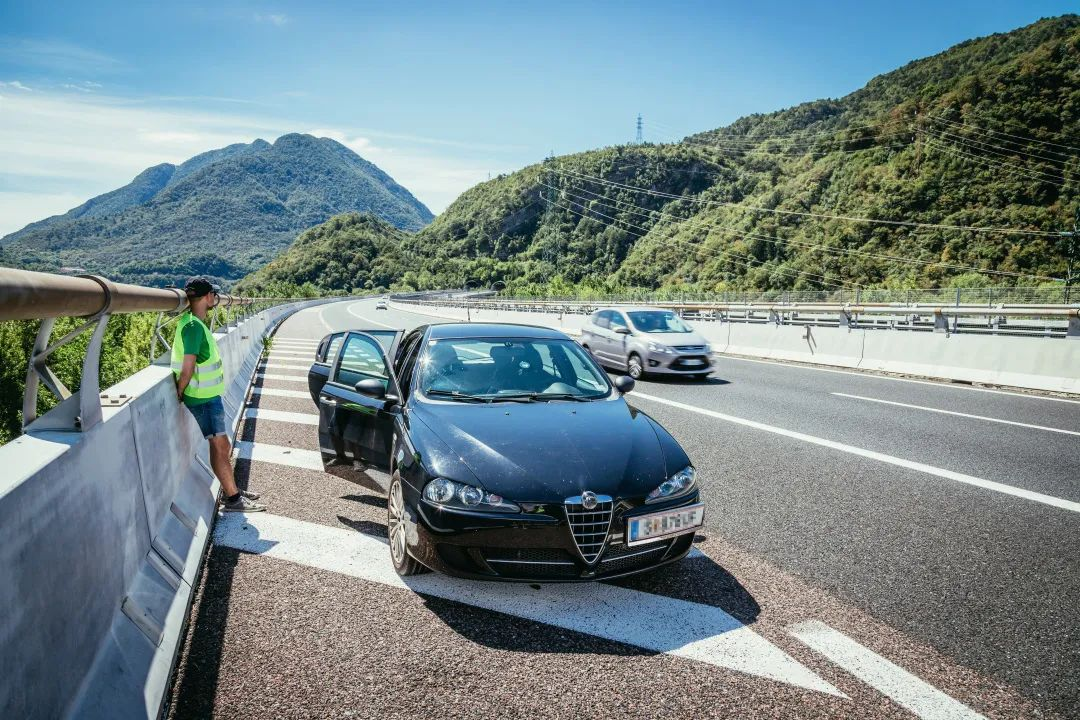car: (317, 324, 700, 619), (590, 288, 740, 381)
